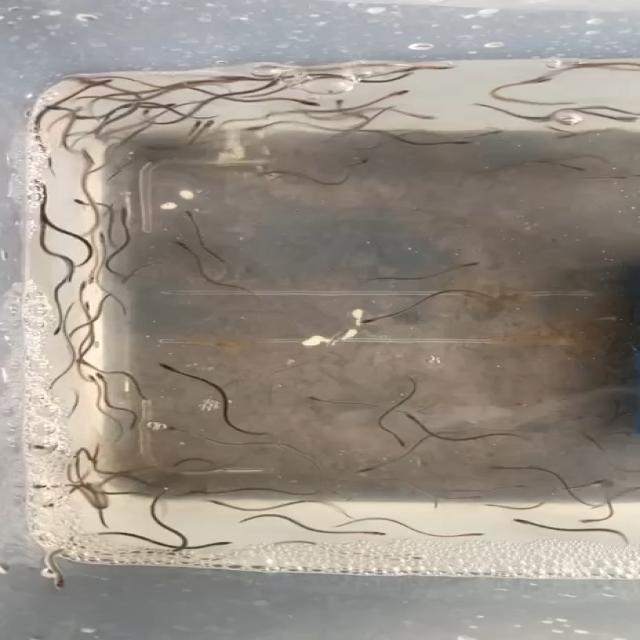inactive_glass_eel: (156, 356, 192, 378), (280, 94, 326, 110), (84, 74, 118, 92), (68, 194, 104, 211), (178, 208, 206, 229), (84, 263, 105, 289), (342, 156, 372, 174), (604, 108, 640, 123), (46, 573, 73, 593), (176, 116, 204, 135), (72, 147, 95, 170), (40, 98, 71, 115), (34, 496, 65, 513), (383, 85, 413, 102), (112, 205, 140, 223), (206, 73, 242, 87), (499, 514, 534, 528), (26, 477, 53, 495), (47, 320, 71, 340), (355, 310, 389, 324), (153, 424, 184, 439), (522, 72, 555, 86), (197, 497, 235, 509), (450, 136, 479, 151), (583, 475, 610, 491), (389, 433, 414, 450), (302, 393, 337, 405), (78, 374, 104, 390), (407, 111, 444, 122), (565, 162, 592, 177), (416, 63, 456, 73), (91, 230, 114, 247), (455, 258, 485, 271), (353, 464, 379, 479), (454, 492, 486, 504), (509, 480, 533, 496), (360, 525, 389, 538), (399, 411, 424, 426), (572, 512, 606, 523), (481, 127, 517, 137), (95, 368, 115, 386), (74, 281, 95, 298), (459, 530, 493, 540), (199, 118, 224, 131), (210, 537, 234, 548), (487, 460, 509, 472), (170, 239, 189, 251)
